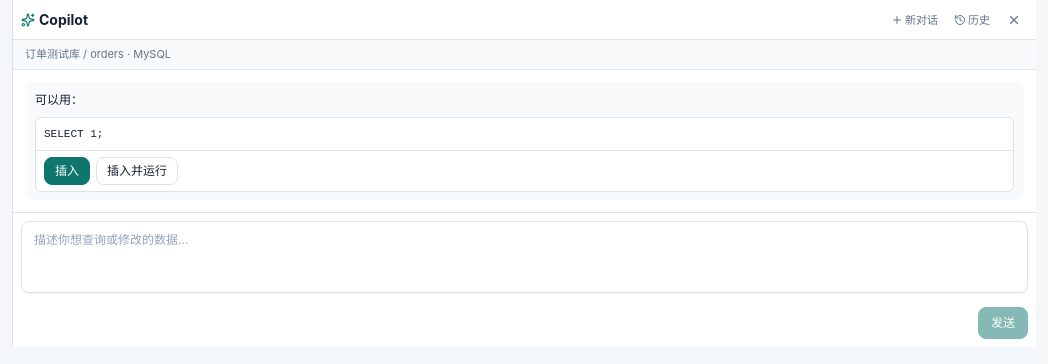
Scenario: copilot panel › replaces the chat with the history view while chatting
The image size is (1048, 364).
Expected: the element with test id "copilot-messages" shows "SELECT 1;", [44, 128, 103, 140]
Click the button with test id "copilot-history-toggle": (972, 20) [948, 6, 996, 34]
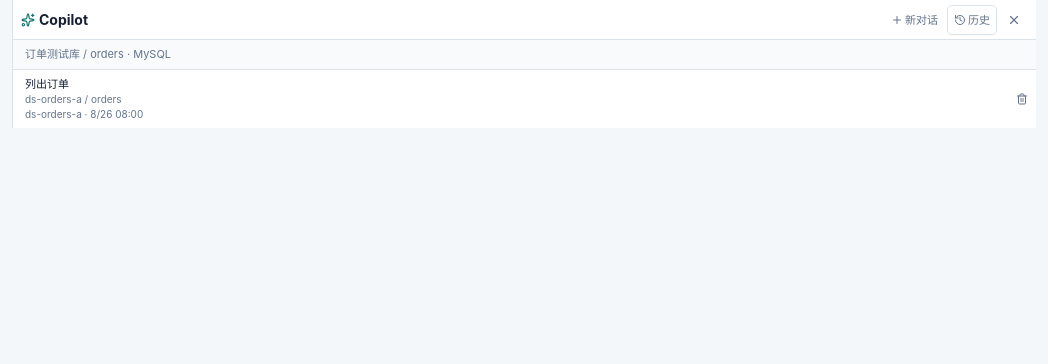
Result: the element with test id "copilot-history" shows "列出订单" at [13, 70, 1006, 128]
